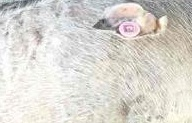text: (108, 16, 150, 43)
